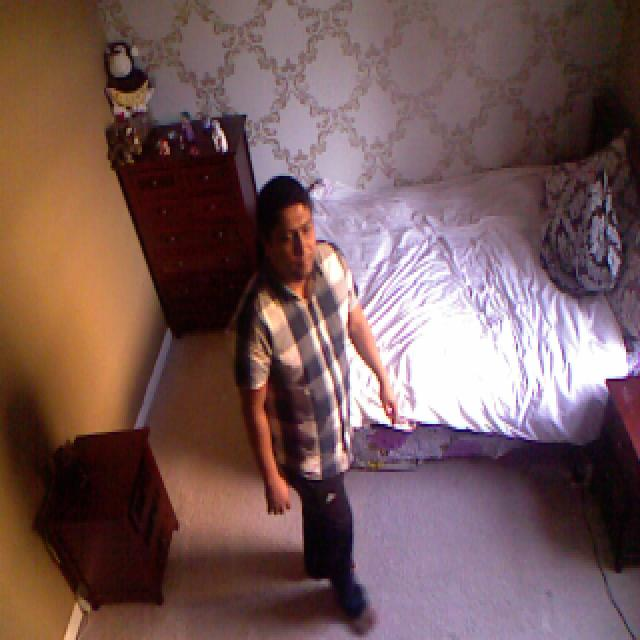standing: (236, 177, 399, 632)
